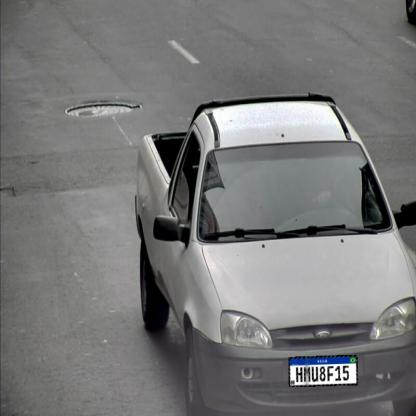PlacaM: (288, 355, 358, 387)
